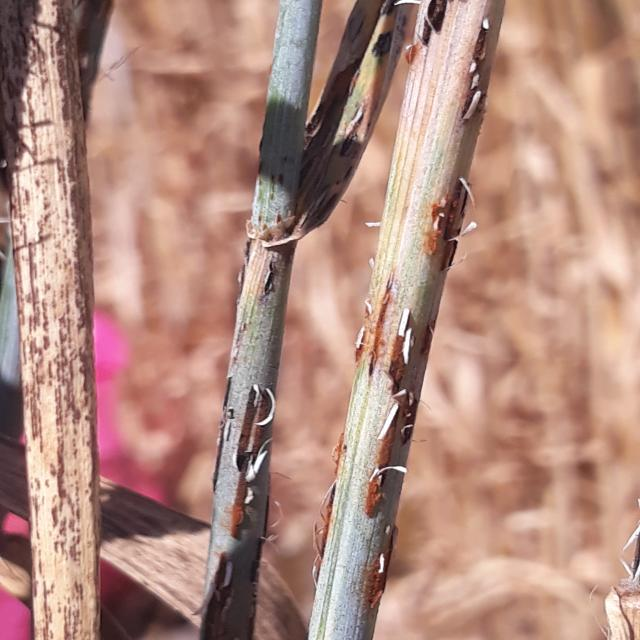black_stem_rust: (184, 0, 519, 640), (0, 1, 165, 640)
